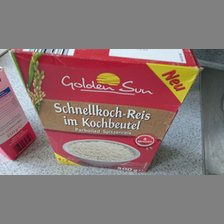rice: (10, 49, 203, 173)
